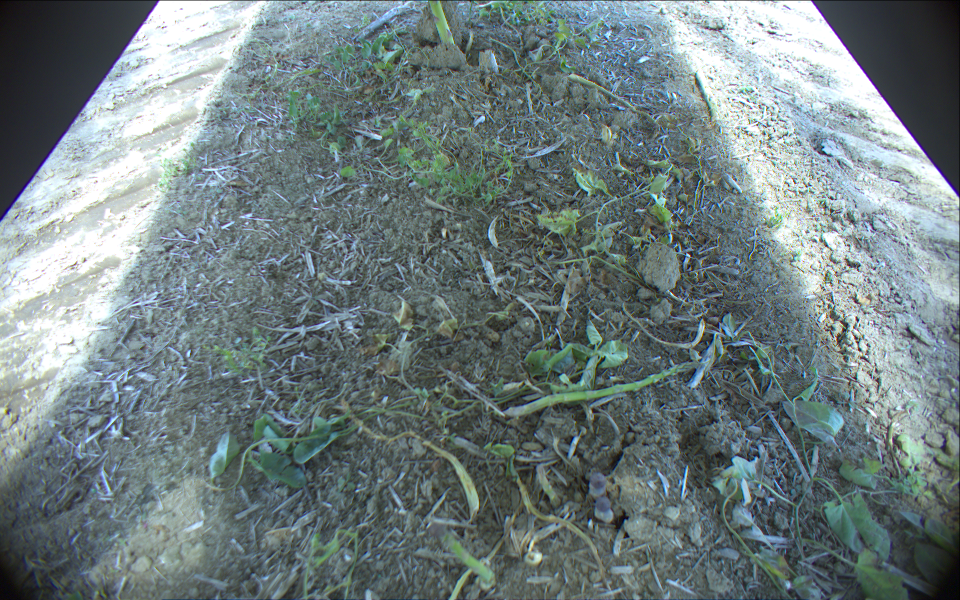aspa: (501, 361, 702, 416), (568, 72, 658, 135), (421, 440, 481, 518), (440, 534, 495, 582), (429, 1, 459, 50), (694, 71, 719, 124)
